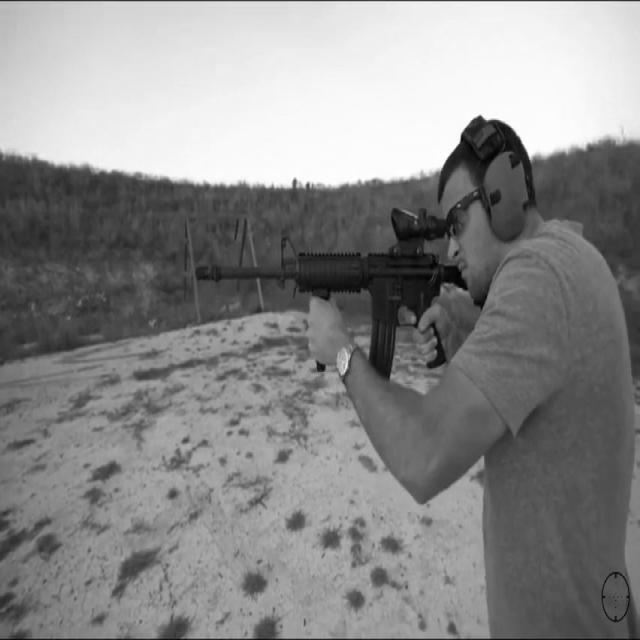Sniper: (132, 156, 546, 478)
